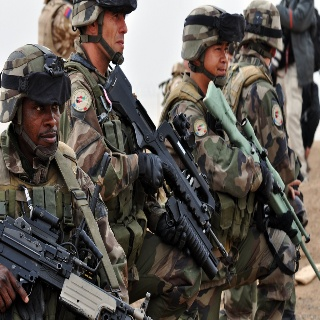rifle: (99, 62, 230, 281), (201, 77, 320, 281), (1, 204, 164, 320)
